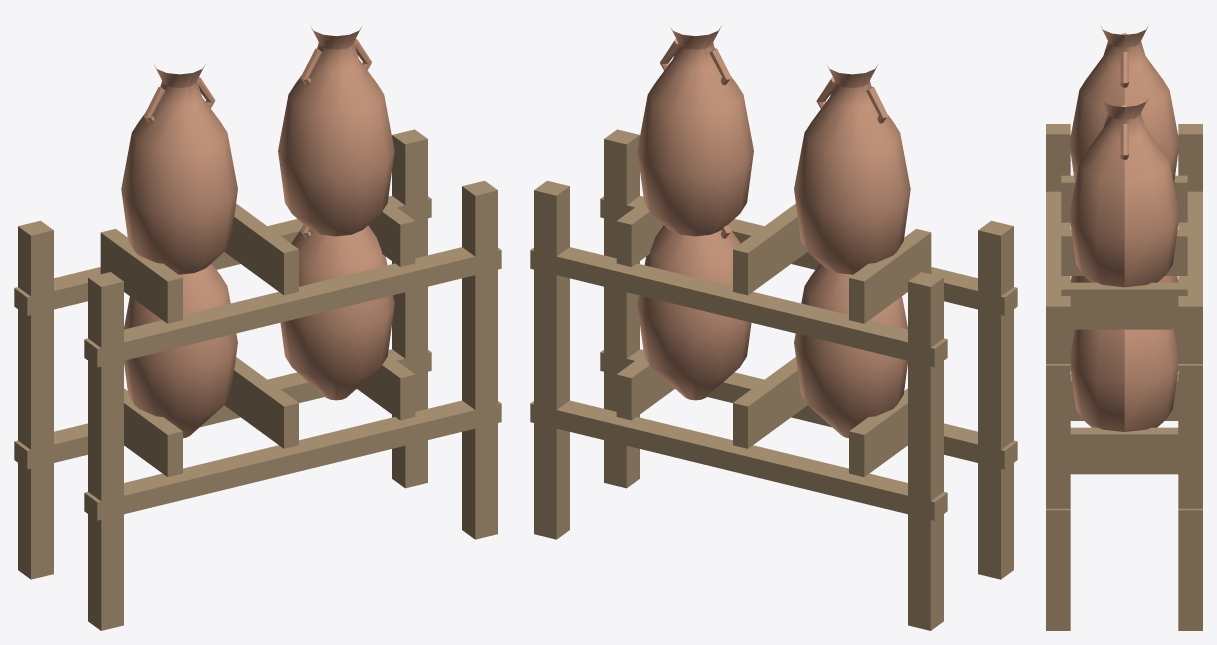
Rendered from roman-bathhouse-and-palaestra-amphora-rack-482ef8e6__37900.glb.
The picture shows the model from 3 angles, left to right: view 1: azimuth 30°, elevation 25°; view 2: azimuth 150°, elevation 25°; view 3: azimuth 270°, elevation 25°; orthographic projection. The views are drawn at different scales.
Visible parts, largest first — view 1: amphora-rack; view 2: amphora-rack; view 3: amphora-rack.
Boxes of the visible parts, bbox=[...] form: amphora-rack: bbox=[14, 27, 501, 630]; amphora-rack: bbox=[530, 27, 1017, 630]; amphora-rack: bbox=[1046, 27, 1202, 630].
Size of the model in its own units: 1.6 by 1.92 by 0.57.
